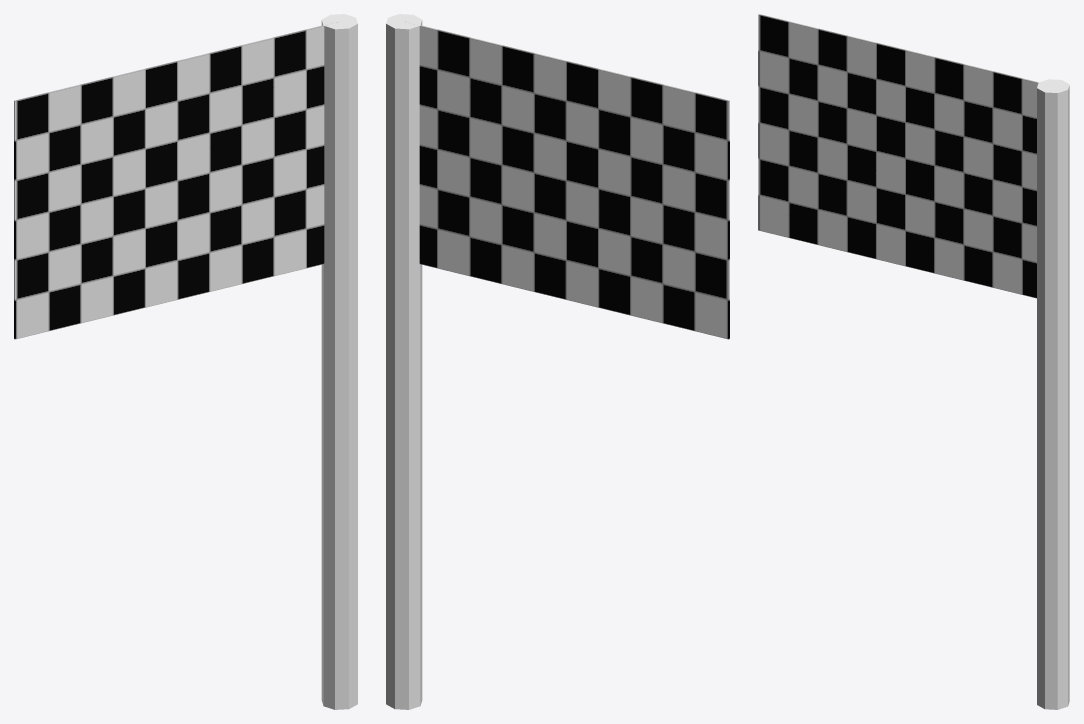
File: goal.fbx
3 renders of one model, left to right at view 1: azimuth 30°, elevation 25°; view 2: azimuth 150°, elevation 25°; view 3: azimuth 330°, elevation 25°, orthographic. The views are drawn at different scales.
Parts seen in each view (by area): view 1: 平面, 円柱; view 2: 平面, 円柱; view 3: 平面, 円柱.
Boxes of the visible parts, box(x1,y1,x2,y2) form: 平面: box(14, 22, 337, 339); 円柱: box(321, 14, 357, 709); 平面: box(405, 22, 729, 339); 円柱: box(386, 14, 422, 709); 平面: box(758, 14, 1038, 298); 円柱: box(1037, 79, 1069, 709).
Size of the model in its own units: 210 by 400 by 20.
Materials: 1 (1 with a texture image).
